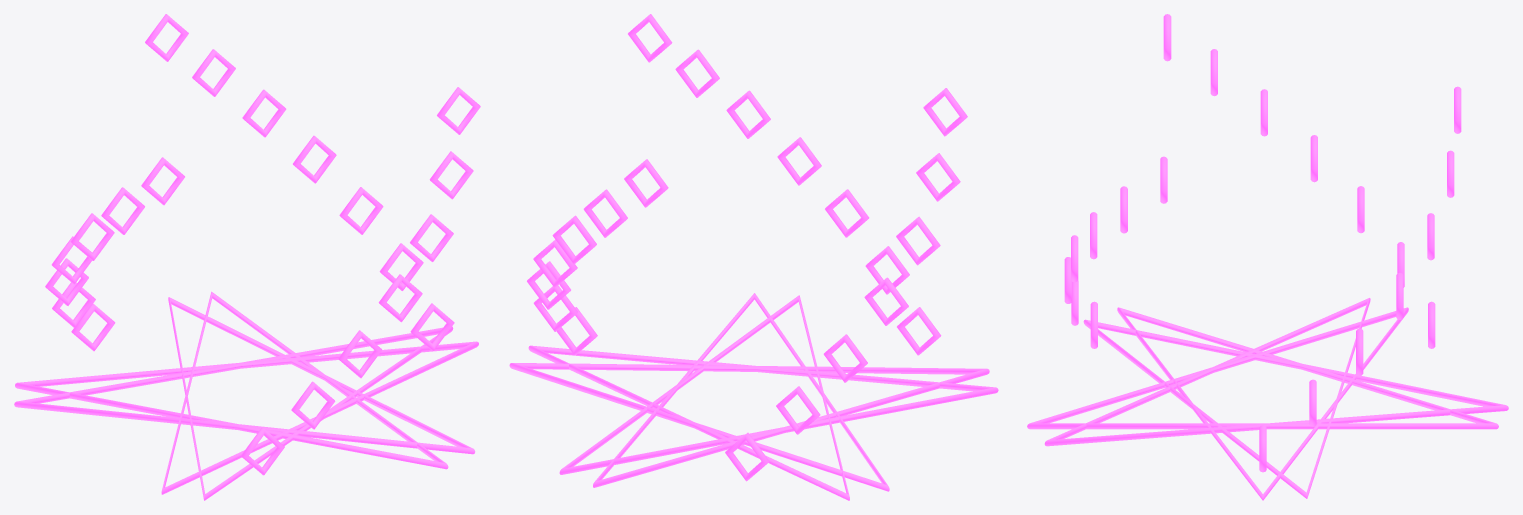
Rendered from CurseChains.fbx.
The picture shows the model from 3 angles, left to right: view 1: azimuth 30°, elevation 25°; view 2: azimuth 150°, elevation 25°; view 3: azimuth 270°, elevation 25°; orthographic projection.
Parts seen in each view (by area): view 1: Curse pentagram.002, Curse pentagram.003, Chain link.036, Chain link.024, Chain link.021, Chain link.040, Chain link.026, Chain link.027, Chain link.034, Chain link.037, Chain link.041, Chain link.025 (+11 smaller); view 2: Curse pentagram.003, Curse pentagram.002, Chain link.028, Chain link.033, Chain link.034, Chain link.025, Chain link.038, Chain link.039, Chain link.027, Chain link.032, Chain link.037, Chain link.040 (+11 smaller); view 3: Curse pentagram.002, Curse pentagram.003.
Part boxes in pixels (x1,y1,x2,y2): Curse pentagram.002: (15,291,478,494); Curse pentagram.003: (14,297,475,500); Chain link.036: (291,381,335,429); Chain link.024: (293,135,336,183); Chain link.021: (410,303,454,351); Chain link.040: (429,151,473,199); Chain link.026: (192,49,235,96); Chain link.027: (145,14,188,61); Chain link.034: (141,157,184,205); Chain link.037: (338,330,381,378); Chain link.041: (437,87,480,134); Chain link.025: (242,89,286,137); Curse pentagram.003: (509,293,989,491); Curse pentagram.002: (528,295,998,500); Chain link.028: (725,432,769,481); Chain link.033: (916,153,960,201); Chain link.034: (923,88,967,136); Chain link.025: (552,215,596,264); Chain link.038: (777,137,821,185); Chain link.039: (726,90,770,138); Chain link.027: (624,159,668,207); Chain link.032: (896,216,940,265); Chain link.037: (825,189,869,237); Chain link.040: (675,49,719,97); Curse pentagram.002: (1027,307,1498,500); Curse pentagram.003: (1044,298,1508,498).
Bounding box in the file's own units: 170 × 124 × 173.
